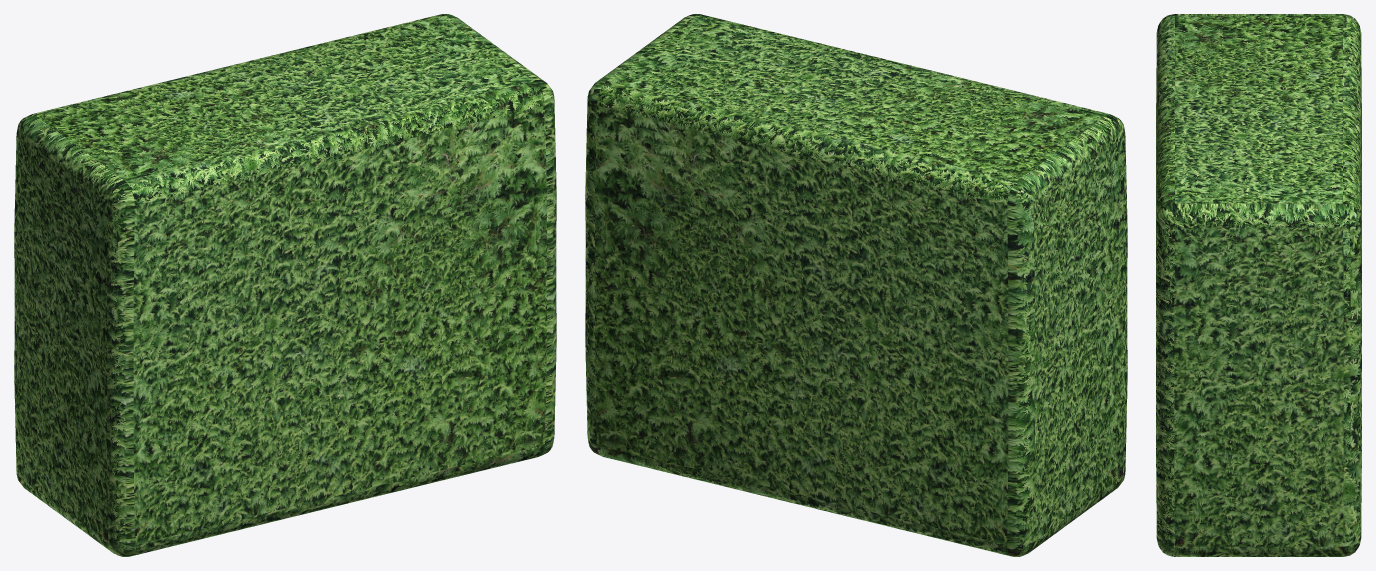
File: grm_pravokutni.fbx
3 renders of one model, left to right at view 1: azimuth 30°, elevation 25°; view 2: azimuth 150°, elevation 25°; view 3: azimuth 270°, elevation 25°, orthographic. The views are drawn at different scales.
Visible parts, largest first — view 1: grm_pravokutni; view 2: grm_pravokutni; view 3: grm_pravokutni.
Part boxes in pixels (box(x1,y1,x2,y2)): grm_pravokutni: box(14, 14, 556, 556); grm_pravokutni: box(585, 14, 1127, 556); grm_pravokutni: box(1156, 14, 1361, 556).
Bounding box in the file's own units: 160 × 376 × 301.
Materials: 1 (1 with a texture image).
